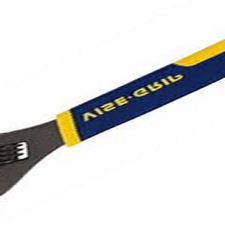Wrench: (2, 38, 225, 197)
